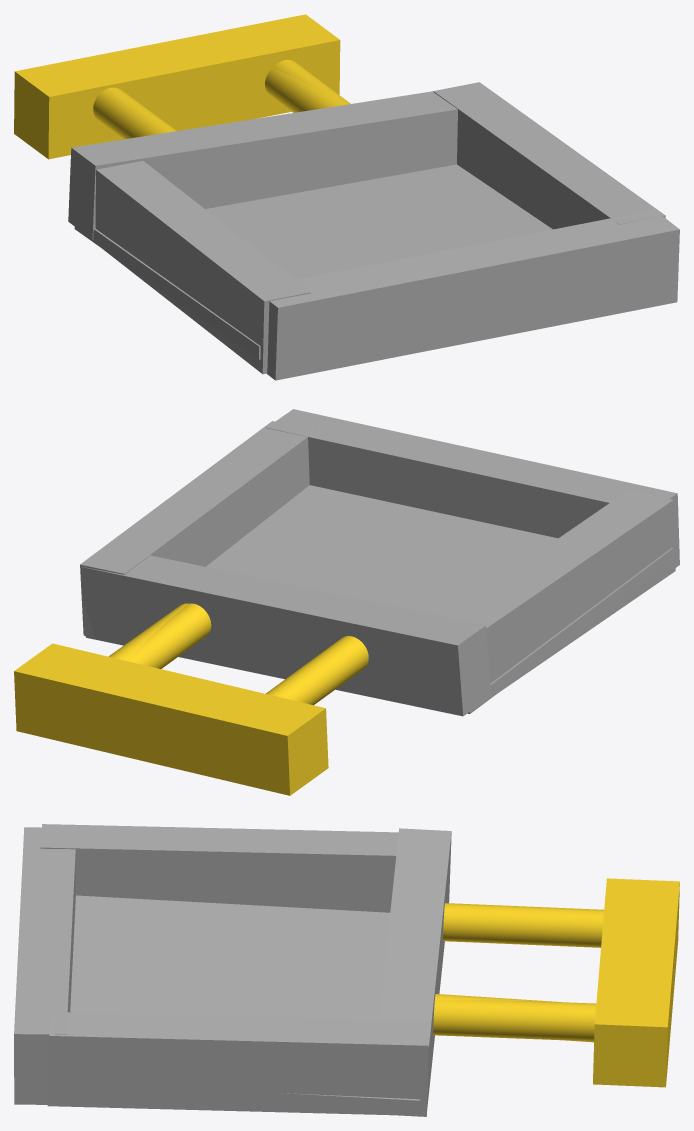
Rendered from morse code hologram puzzle lock drawer when puzzle is solved.fbx.
3 views of the same model, one above another, from view 1: azimuth 30°, elevation 25°; view 2: azimuth 150°, elevation 25°; view 3: azimuth 270°, elevation 25° (orthographic).
Parts seen in each view (by area): view 1: f60dec96-66e3-4fe8-ae21-0e4513faf08e; view 2: f60dec96-66e3-4fe8-ae21-0e4513faf08e; view 3: f60dec96-66e3-4fe8-ae21-0e4513faf08e.
Boxes of the visible parts, box(x1,y1,x2,y2) form: f60dec96-66e3-4fe8-ae21-0e4513faf08e: box(14, 14, 679, 380); f60dec96-66e3-4fe8-ae21-0e4513faf08e: box(14, 409, 679, 795); f60dec96-66e3-4fe8-ae21-0e4513faf08e: box(14, 824, 679, 1116).
Bounding box in the file's own units: 15774 × 3592 × 22174.
